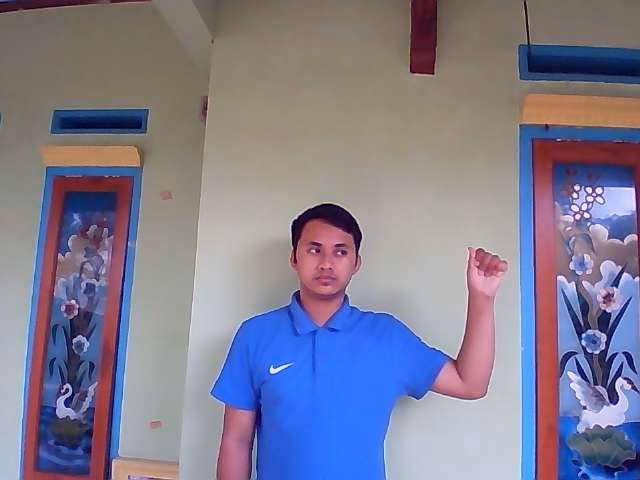A: (465, 245, 509, 296)
